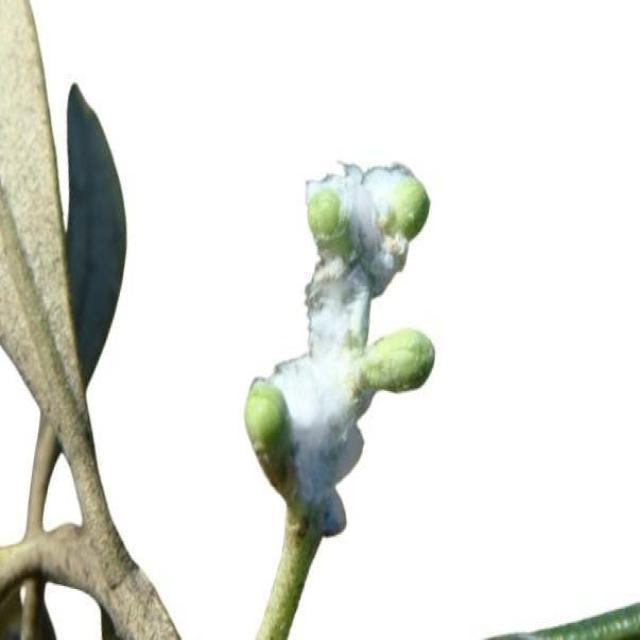Psyllid: (244, 161, 433, 535)
